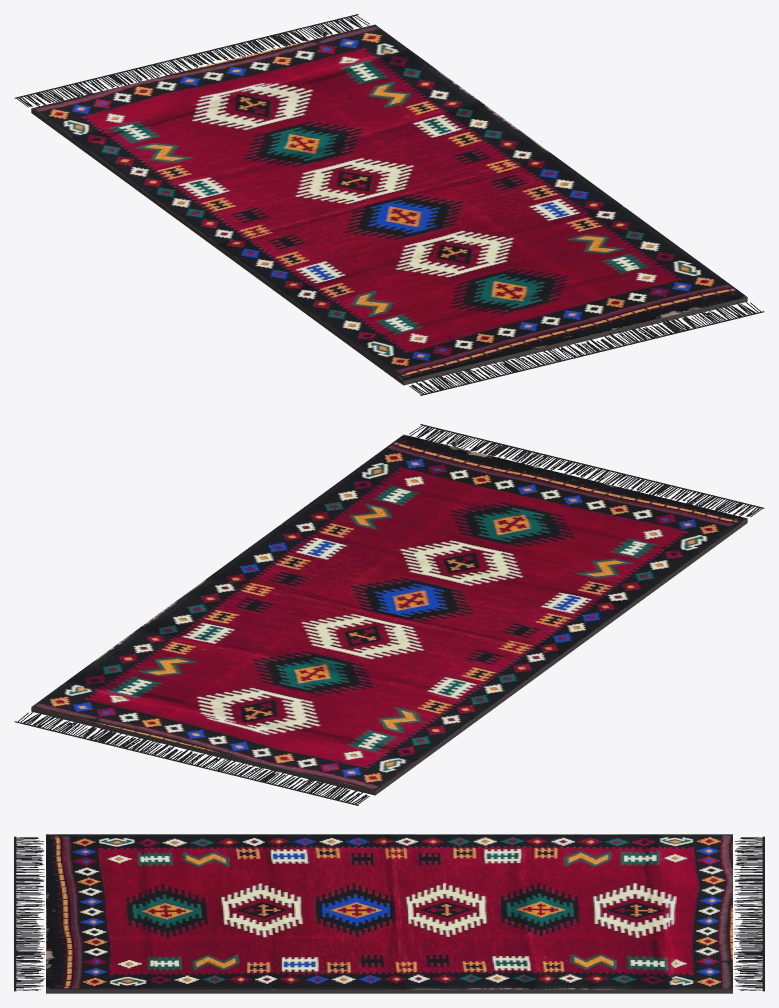
3 views of the same model, one above another, from view 1: azimuth 30°, elevation 25°; view 2: azimuth 150°, elevation 25°; view 3: azimuth 270°, elevation 25° (orthographic). The views are drawn at different scales.
Visible parts, largest first — view 1: rug, fringeB, fringeA, side; view 2: rug, fringeA, fringeB, side; view 3: rug, fringeB, fringeA, side.
Boxes of the visible parts, x1,y1,x2,y2 form: rug: (31,24,746,380); fringeB: (409,302,764,395); fringeA: (14,14,369,107); side: (31,108,747,385); rug: (32,434,747,790); fringeA: (14,712,369,805); fringeB: (409,424,764,517); side: (31,518,747,795); rug: (46,834,732,989); fringeB: (14,836,45,991); fringeA: (733,836,764,991); side: (46,989,732,993).
Size of what is drawn, in the model's own units: 0.8 by 0.0102 by 1.64.
2 materials, 2 textured.
